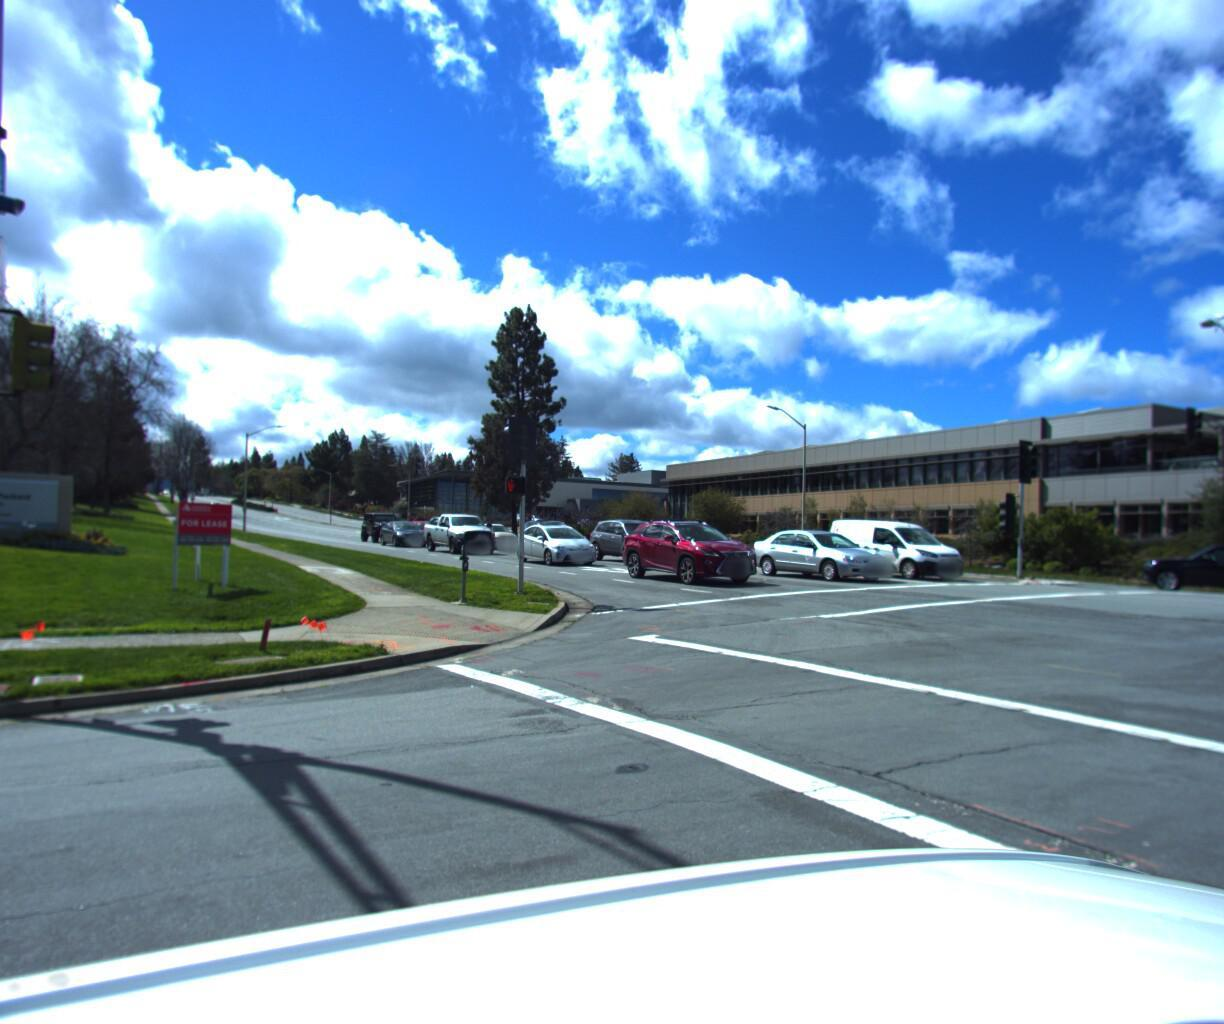car: (609, 521, 764, 594), (816, 521, 972, 588), (741, 533, 895, 589), (1133, 548, 1224, 605), (582, 526, 679, 573), (505, 528, 603, 574), (417, 517, 501, 561), (464, 526, 527, 558), (372, 526, 430, 555), (359, 518, 404, 549)
